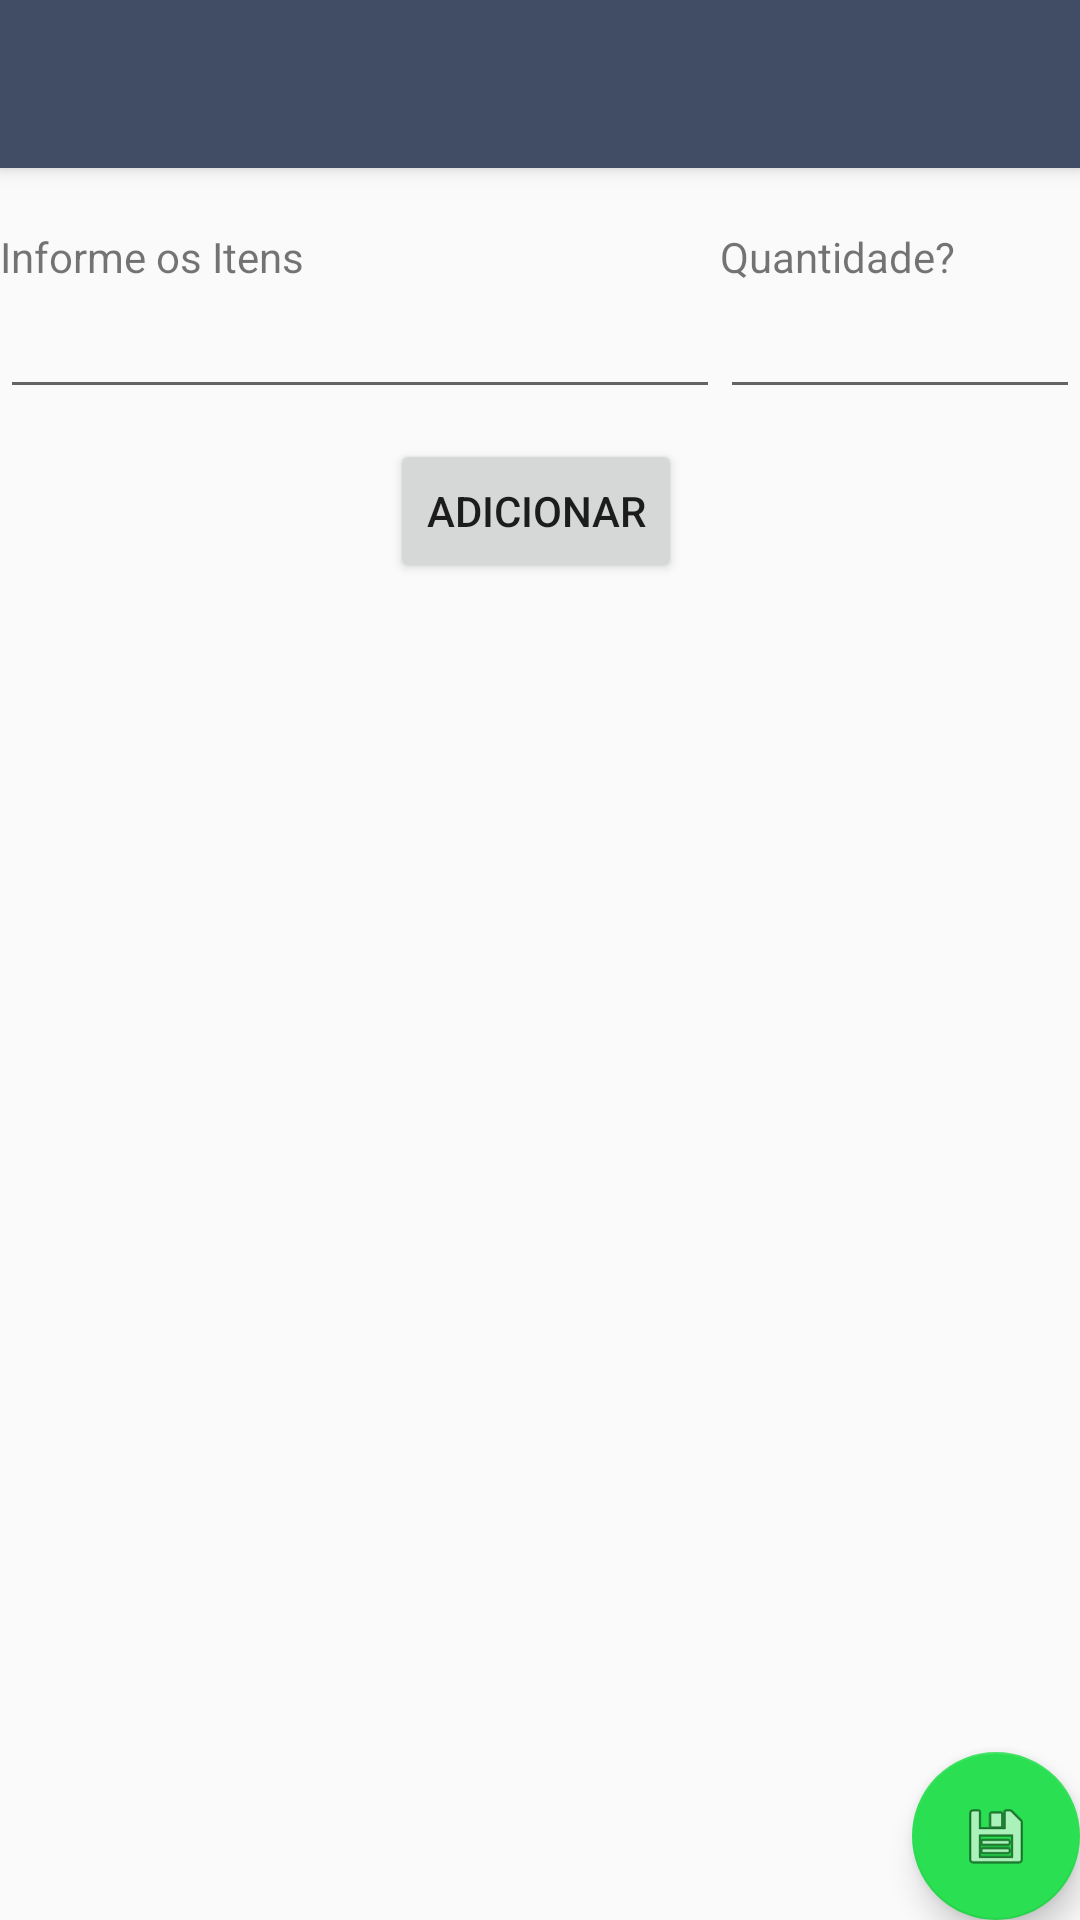

Where to tap for icons on this 1080*1920 app screen, as [x,y]:
save: [996,1836]
